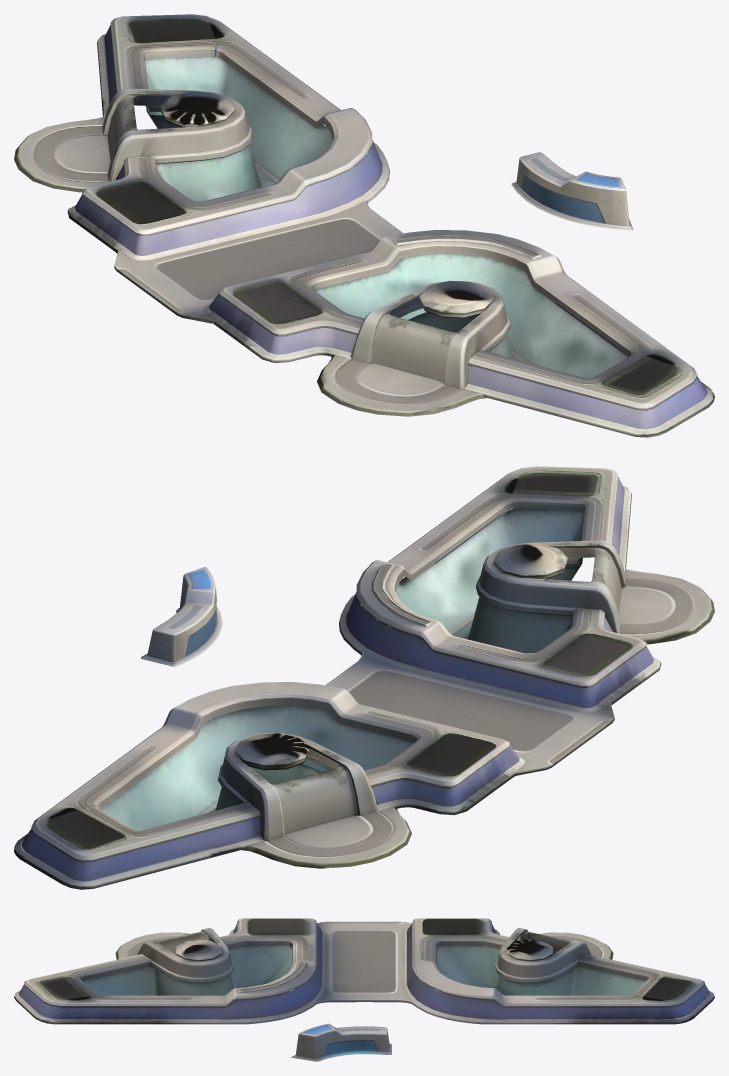
Rendered from pref_sm_beach_bk_waterblock_R01_lv2.fbx.
3 renders of one model, top to bottom at view 1: azimuth 30°, elevation 25°; view 2: azimuth 150°, elevation 25°; view 3: azimuth 270°, elevation 25°, orthographic. The views are drawn at different scales.
Visible parts, largest first — view 1: sm_beach_bk_waterblock_R01_lv2, sm_beach_bk_waterblock_R01c_lv2; view 2: sm_beach_bk_waterblock_R01_lv2, sm_beach_bk_waterblock_R01c_lv2; view 3: sm_beach_bk_waterblock_R01_lv2, sm_beach_bk_waterblock_R01c_lv2.
Part boxes in pixels (left/top/right/bottom): sm_beach_bk_waterblock_R01_lv2: left=14, top=14, right=714, bottom=437; sm_beach_bk_waterblock_R01c_lv2: left=511, top=152, right=633, bottom=231; sm_beach_bk_waterblock_R01_lv2: left=14, top=466, right=714, bottom=889; sm_beach_bk_waterblock_R01c_lv2: left=141, top=567, right=222, bottom=666; sm_beach_bk_waterblock_R01_lv2: left=14, top=918, right=714, bottom=1024; sm_beach_bk_waterblock_R01c_lv2: left=290, top=1023, right=391, bottom=1061.
Bounding box in the file's own units: 20.89 × 3.9 × 44.8.
